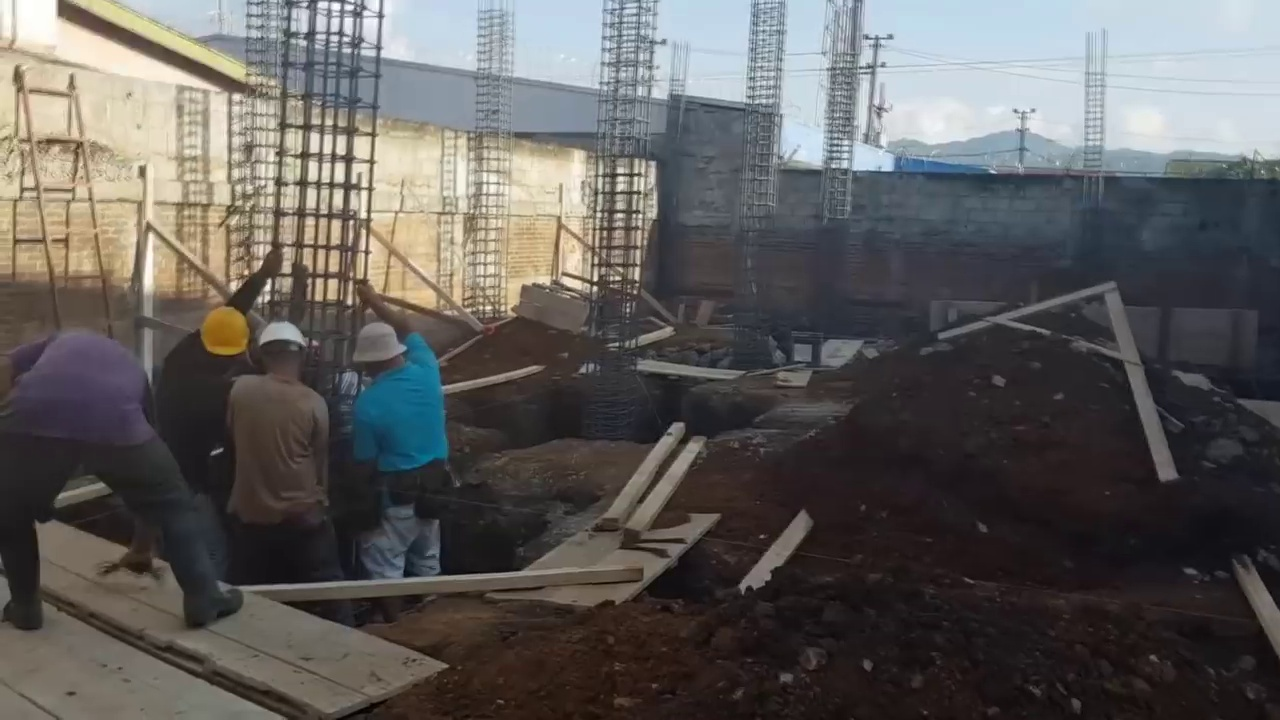helmet: (203, 309, 246, 355), (257, 319, 310, 354)
helmet-off: (350, 321, 400, 364)
helmet-on: (257, 320, 309, 381), (197, 310, 246, 366)
person: (0, 328, 230, 630), (225, 307, 336, 595), (344, 310, 448, 600), (144, 245, 282, 440)
